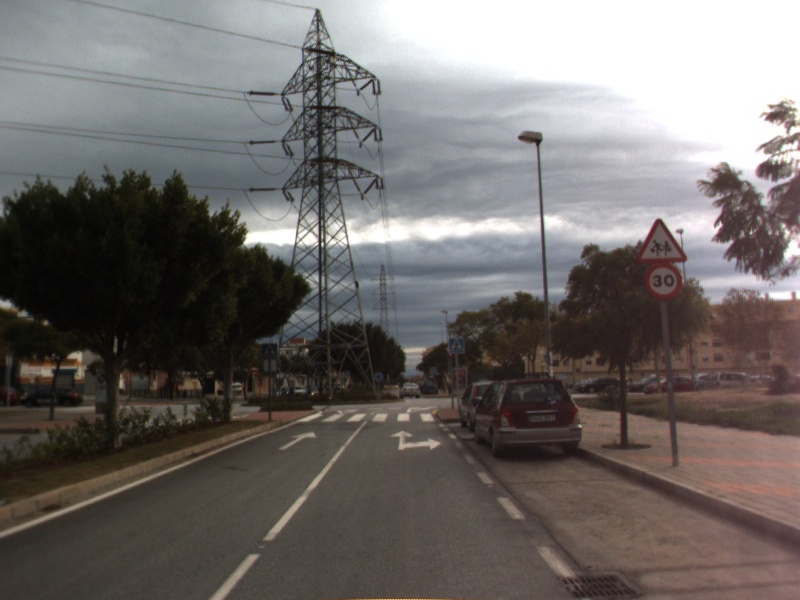STRAIGHT: (276, 429, 318, 452)
STRAIGHT_RIGHT: (388, 428, 443, 452)
